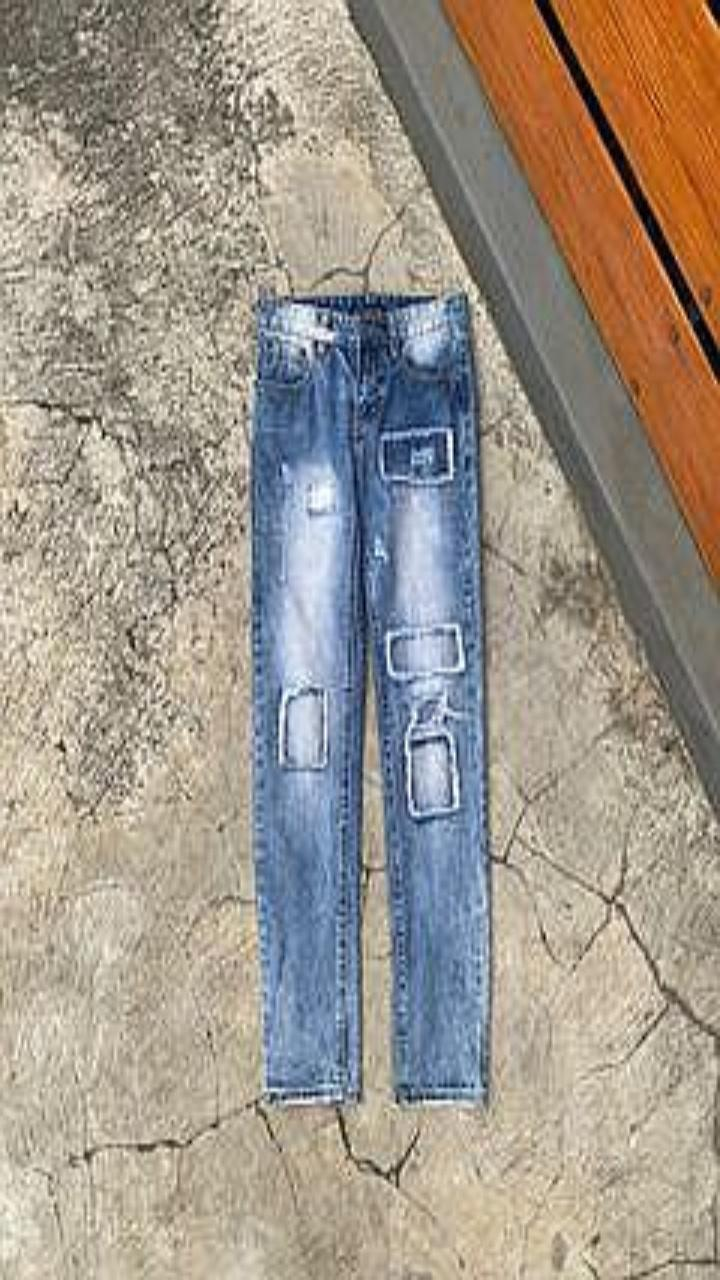Jeans: (251, 292, 490, 1101)
